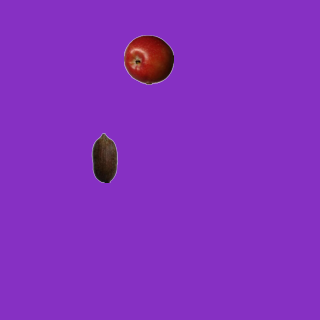Apple Braeburn: (123, 34, 173, 84)
Nut Pecan: (79, 132, 129, 182)
